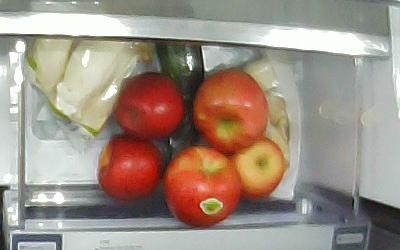apple: (159, 143, 241, 226), (191, 66, 268, 154), (111, 70, 186, 138), (95, 133, 166, 200), (227, 136, 284, 198)
